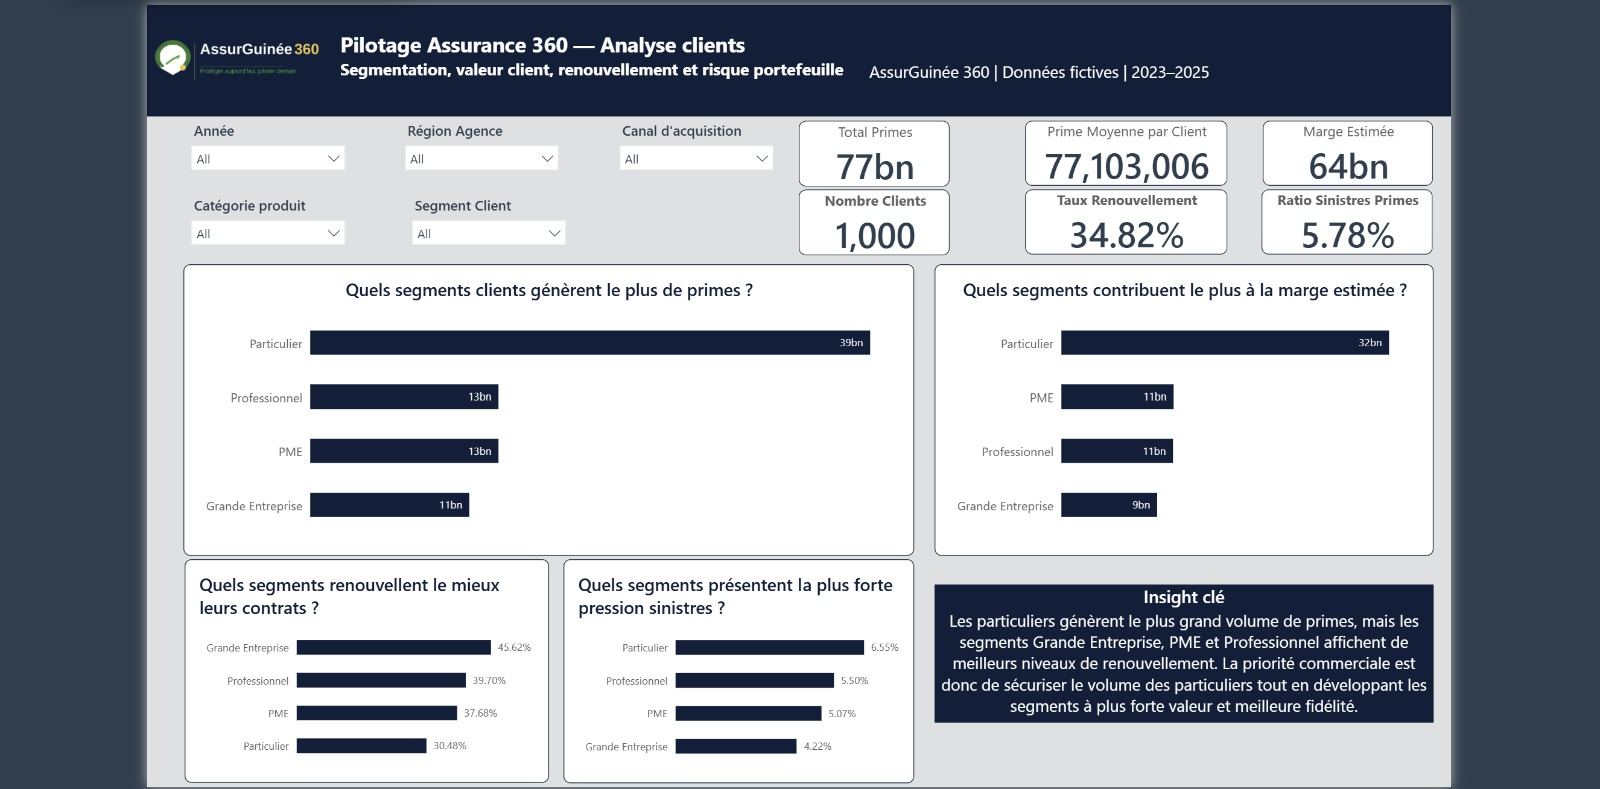

The page's visual inventory and layout, read from the dashboard file:
{"tool":"powerbi","page":{"name":"Analyse Clients","canvas":[1500,900],"ordinal":3},"visuals":[{"type":"shape","box":[0,0,1500,128.6],"z":0},{"type":"image","box":[2,1,201,128],"z":1000},{"type":"textbox","box":[221.8,29.9,595.7,68.2],"z":2000},{"type":"textbox","box":[831,64,449,55],"z":3000},{"type":"cardVisual","fields":{"Data":["Mesures.Total Primes"]},"box":[750,132.9,173,76],"z":4000},{"type":"cardVisual","fields":{"Data":["Mesures.Prime Moyenne par Client"]},"box":[1010.3,132.9,233.3,75.7],"z":5000},{"type":"cardVisual","fields":{"Data":["Mesures.Marge Estimée"]},"box":[1283.7,132.9,196.2,75.7],"z":6000},{"type":"cardVisual","fields":{"Data":["Mesures.Taux Renouvellement"]},"box":[1010.3,213.2,233.3,75.7],"z":7000},{"type":"cardVisual","fields":{"Data":["Mesures.Ratio Sinistres Primes"]},"box":[1282.2,213.2,197.7,75.7],"z":8000},{"type":"cardVisual","fields":{"Data":["Mesures.Nombre Clients"]},"box":[750,212.9,173,76],"z":9000},{"type":"slicer","fields":{"Values":["Objectifs.Annee"]},"box":[45.7,132.9,187.1,61.4],"z":10000},{"type":"slicer","fields":{"Values":["Agences.Region Agence"]},"box":[292.1,132.9,187.1,61.4],"z":11000},{"type":"slicer","fields":{"Values":["Produits.Categorie Produit"]},"box":[45.7,220,187.1,61.4],"z":12000},{"type":"slicer","fields":{"Values":["Clients.Segment Client"]},"box":[300.6,220,187.1,61.4],"z":13000},{"type":"slicer","fields":{"Values":["Clients.Canal Acquisition"]},"box":[538.6,132.9,187.1,61.4],"z":14000},{"type":"clusteredBarChart","title":"Quels segments clients génèrent le plus de primes ?","fields":{"Category":["Clients.Segment Client"],"Y":["Mesures.Total Primes"]},"box":[41.7,298.1,840.4,335.2],"z":15000},{"type":"clusteredBarChart","title":"Quels segments contribuent le plus à la marge estimée ?","fields":{"Category":["Clients.Segment Client"],"Y":["Mesures.Marge Estimée"]},"box":[905.3,298.6,574.7,335.2],"z":16000},{"type":"clusteredBarChart","title":"Quels segments renouvellent le mieux leurs contrats ?","fields":{"Category":["Clients.Segment Client"],"Y":["Mesures.Taux Renouvellement"]},"box":[42.7,637.9,419.4,257.3],"z":17000},{"type":"clusteredBarChart","title":"Quels segments présentent la plus forte pression sinistres ?","fields":{"Category":["Clients.Segment Client"],"Y":["Mesures.Ratio Sinistres Primes"]},"box":[478.9,637.9,403.2,258],"z":18000},{"type":"textbox","title":"Insight clé","box":[905.7,666.8,574.4,159.2],"z":19000}]}

Visuals, with their boxes on the page's 1500x900 design canvas (x1, y1, x2, y2). These are canvas units, not pixel positions in the 1600x789 screenshot, which may show the page scaled, cropped or inside an application window:
shape: (0, 0, 1500, 129)
image: (2, 1, 203, 129)
textbox: (222, 30, 818, 98)
textbox: (831, 64, 1280, 119)
cardVisual - Mesures.Total Primes: (750, 133, 923, 209)
cardVisual - Mesures.Prime Moyenne par Client: (1010, 133, 1244, 209)
cardVisual - Mesures.Marge Estimée: (1284, 133, 1480, 209)
cardVisual - Mesures.Taux Renouvellement: (1010, 213, 1244, 289)
cardVisual - Mesures.Ratio Sinistres Primes: (1282, 213, 1480, 289)
cardVisual - Mesures.Nombre Clients: (750, 213, 923, 289)
slicer - Objectifs.Annee: (46, 133, 233, 194)
slicer - Agences.Region Agence: (292, 133, 479, 194)
slicer - Produits.Categorie Produit: (46, 220, 233, 281)
slicer - Clients.Segment Client: (301, 220, 488, 281)
slicer - Clients.Canal Acquisition: (539, 133, 726, 194)
"Quels segments clients génèrent le plus de primes ?" clusteredBarChart: (42, 298, 882, 633)
"Quels segments contribuent le plus à la marge estimée ?" clusteredBarChart: (905, 299, 1480, 634)
"Quels segments renouvellent le mieux leurs contrats ?" clusteredBarChart: (43, 638, 462, 895)
"Quels segments présentent la plus forte pression sinistres ?" clusteredBarChart: (479, 638, 882, 896)
"Insight clé" textbox: (906, 667, 1480, 826)
